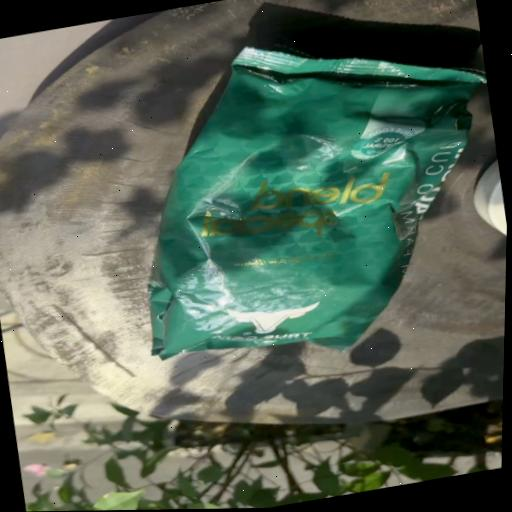cafe_xay: (148, 45, 485, 357)
